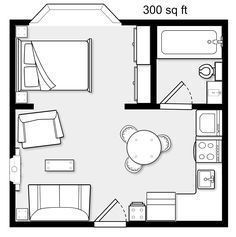door: (167, 80, 194, 106), (93, 203, 124, 220)
room: (16, 109, 219, 222), (15, 27, 142, 101), (159, 29, 225, 107)
wall: (146, 27, 159, 108), (223, 26, 228, 228), (119, 19, 227, 27), (9, 19, 15, 156), (128, 221, 223, 229), (12, 221, 94, 227), (124, 101, 158, 112), (9, 181, 16, 226), (191, 104, 223, 112), (15, 102, 34, 110), (12, 18, 30, 25)
window: (9, 156, 18, 180)
